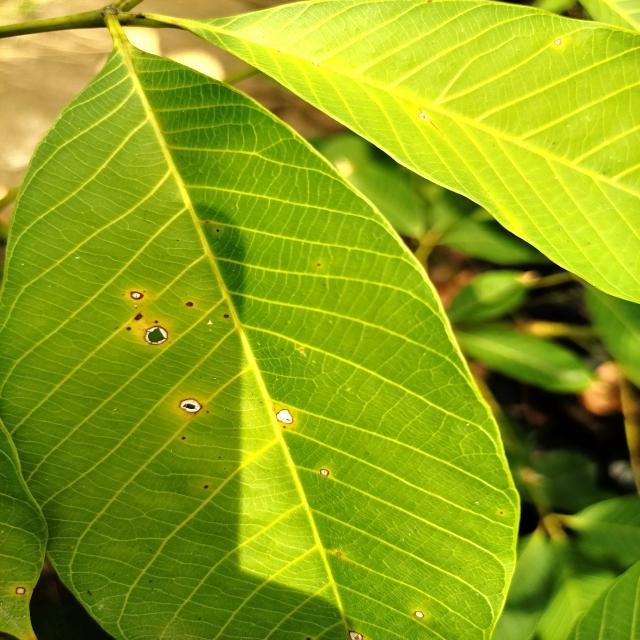Colletotrichum: (144, 326, 169, 345), (179, 398, 202, 413), (276, 409, 294, 424), (130, 291, 144, 300), (16, 587, 27, 595), (554, 38, 562, 46), (320, 469, 329, 476), (186, 302, 193, 307), (135, 315, 142, 320), (312, 62, 319, 67), (224, 314, 229, 318), (204, 485, 208, 489), (182, 436, 186, 439), (127, 328, 131, 330), (155, 321, 158, 323)
